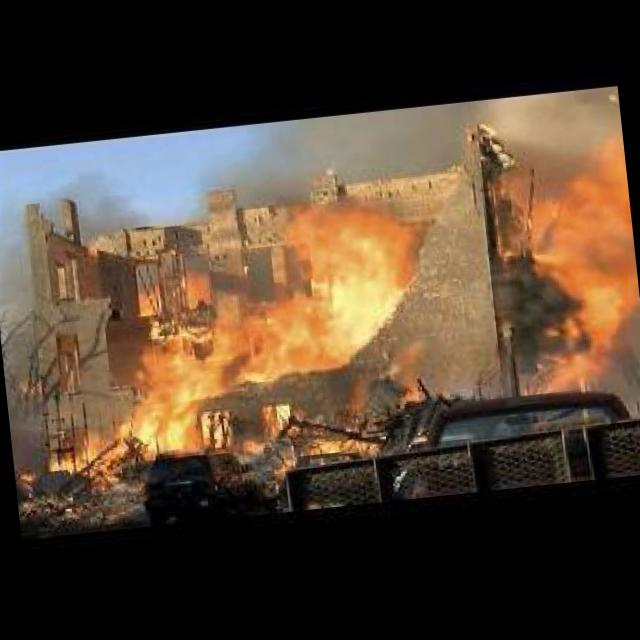fire: (27, 154, 640, 468)
